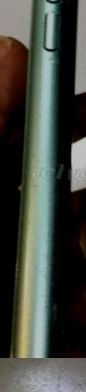scratch: (13, 248, 64, 358), (38, 0, 80, 111), (22, 150, 52, 215), (56, 142, 73, 162)
